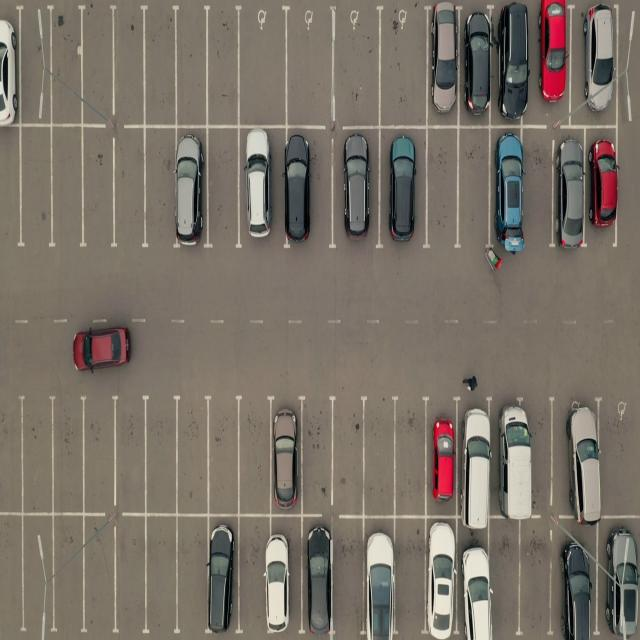space-empty: (238, 8, 289, 126), (284, 11, 335, 128), (377, 7, 425, 128), (334, 8, 381, 126), (45, 516, 87, 633), (46, 5, 86, 126), (142, 6, 180, 127), (15, 130, 52, 251), (113, 5, 150, 126), (77, 4, 114, 125), (601, 403, 640, 517), (175, 7, 212, 127), (205, 7, 242, 127), (458, 128, 494, 251), (78, 132, 115, 250), (79, 515, 116, 633), (17, 515, 54, 633), (49, 131, 85, 251), (141, 130, 177, 250), (143, 396, 180, 512), (49, 399, 86, 515), (206, 128, 242, 247), (112, 131, 148, 250), (177, 397, 214, 512), (17, 397, 53, 515), (78, 397, 115, 511), (142, 517, 178, 633), (239, 396, 275, 512), (115, 396, 151, 511), (235, 397, 271, 512), (520, 522, 556, 637), (297, 398, 333, 512), (115, 516, 150, 633), (396, 519, 430, 638), (331, 397, 366, 512), (205, 397, 240, 511), (424, 126, 457, 246), (302, 397, 337, 510), (394, 398, 428, 514), (360, 398, 394, 514), (177, 517, 211, 633), (332, 520, 366, 636), (524, 126, 556, 248), (15, 8, 48, 124), (488, 519, 520, 636), (0, 515, 24, 635), (0, 390, 23, 510), (0, 128, 22, 250)
space-occupied: (282, 130, 332, 250), (553, 396, 600, 518), (240, 128, 286, 249), (333, 130, 379, 249), (382, 125, 428, 244), (491, 395, 536, 516), (574, 1, 618, 124), (379, 129, 424, 249), (488, 128, 531, 252), (579, 4, 622, 124), (237, 125, 279, 247), (600, 519, 640, 637), (552, 532, 596, 638), (262, 513, 300, 634), (535, 1, 572, 122), (425, 6, 461, 126), (493, 5, 529, 124), (460, 400, 496, 518), (489, 130, 523, 253), (424, 398, 459, 516), (459, 519, 493, 639), (424, 519, 458, 637), (362, 517, 395, 638), (269, 397, 304, 511), (177, 130, 210, 250), (554, 130, 587, 247), (463, 8, 496, 124), (207, 516, 238, 632), (303, 523, 335, 634), (589, 131, 620, 245), (299, 522, 330, 634), (585, 127, 615, 241), (0, 6, 22, 125)
